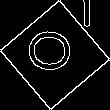O_E: (28, 31, 82, 79)
